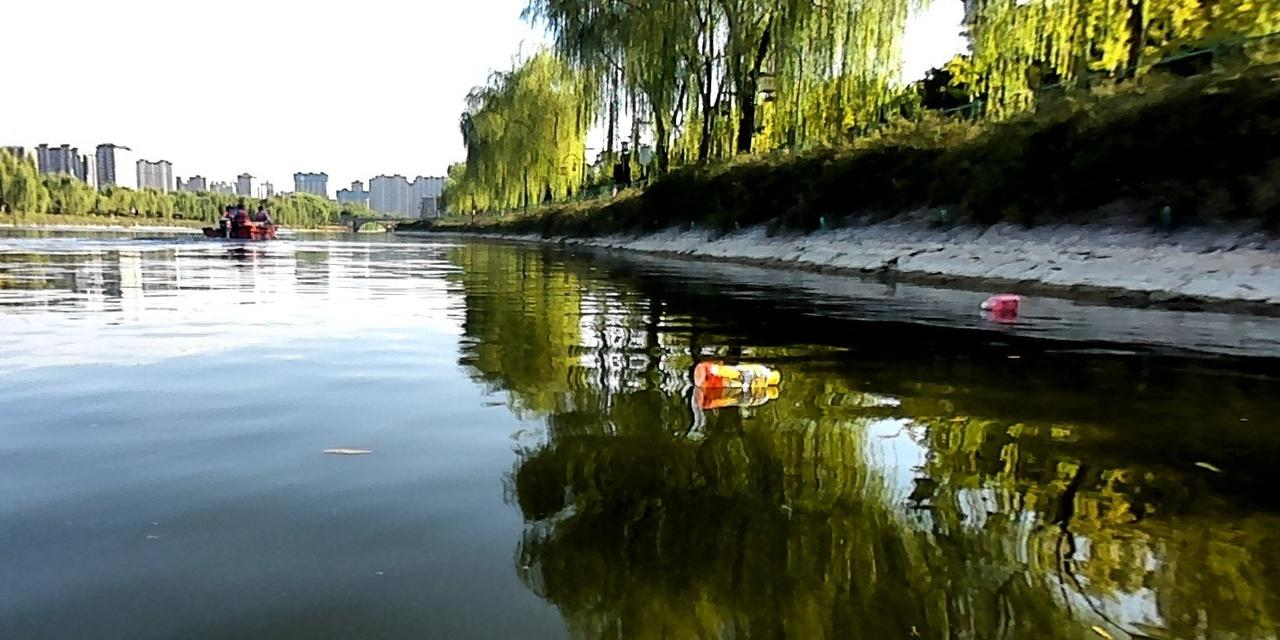bottle: (687, 357, 784, 389), (976, 291, 1022, 314)
